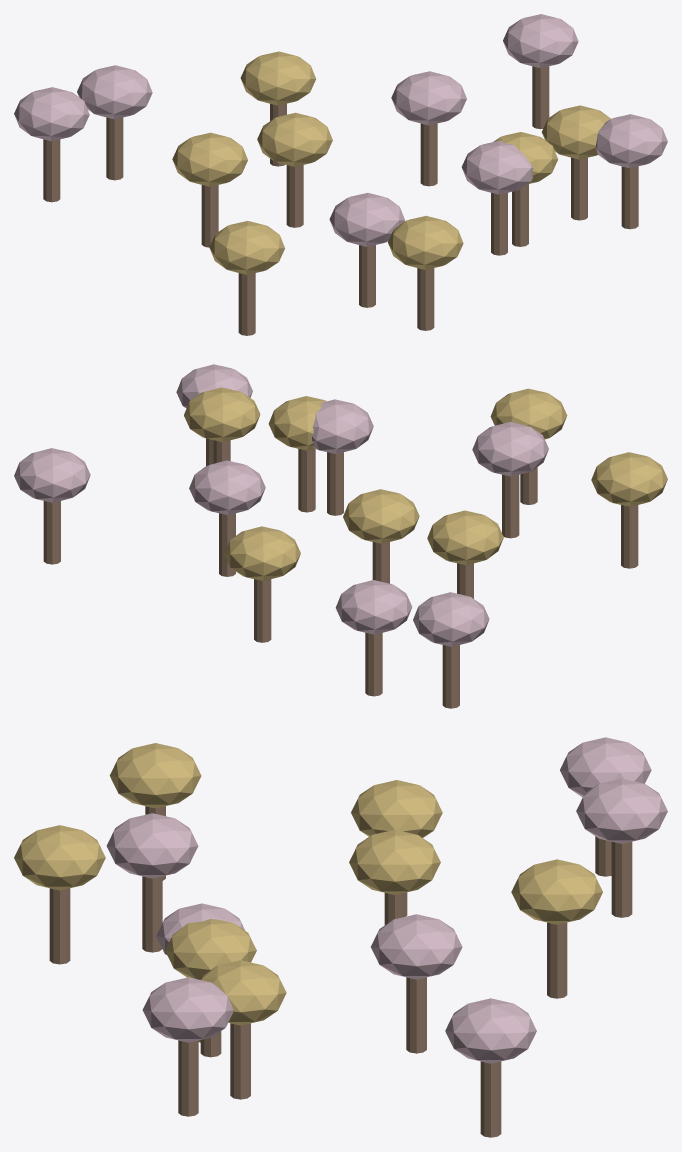
Rendered from flores.glb.
3 views of the same model, one above another, from view 1: azimuth 30°, elevation 25°; view 2: azimuth 150°, elevation 25°; view 3: azimuth 270°, elevation 25° (orthographic). The views are drawn at different scales.
Visible parts, largest first — view 1: world; view 2: world; view 3: world.
Part boxes in pixels (x1=…): world: x1=14, y1=14, x2=667, y2=335; world: x1=14, y1=364, x2=667, y2=708; world: x1=14, y1=737, x2=667, y2=1137.
Size of the model in its own units: 1.7 by 0.34 by 1.57.
